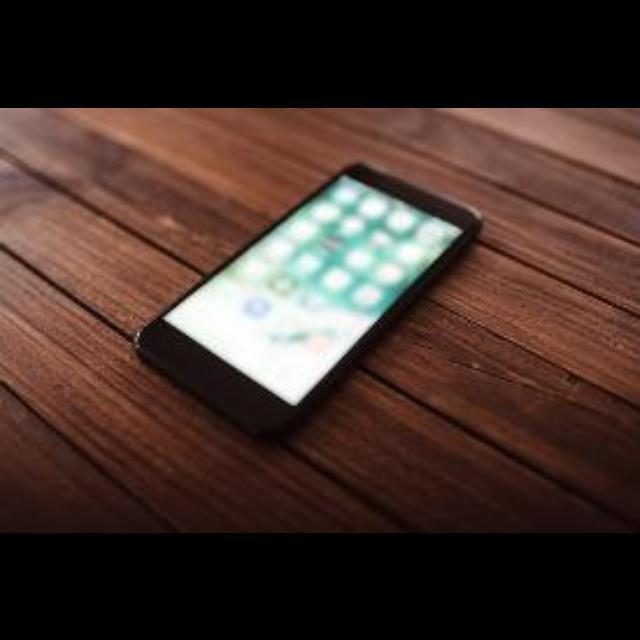PhoneUse: (115, 172, 499, 424)
